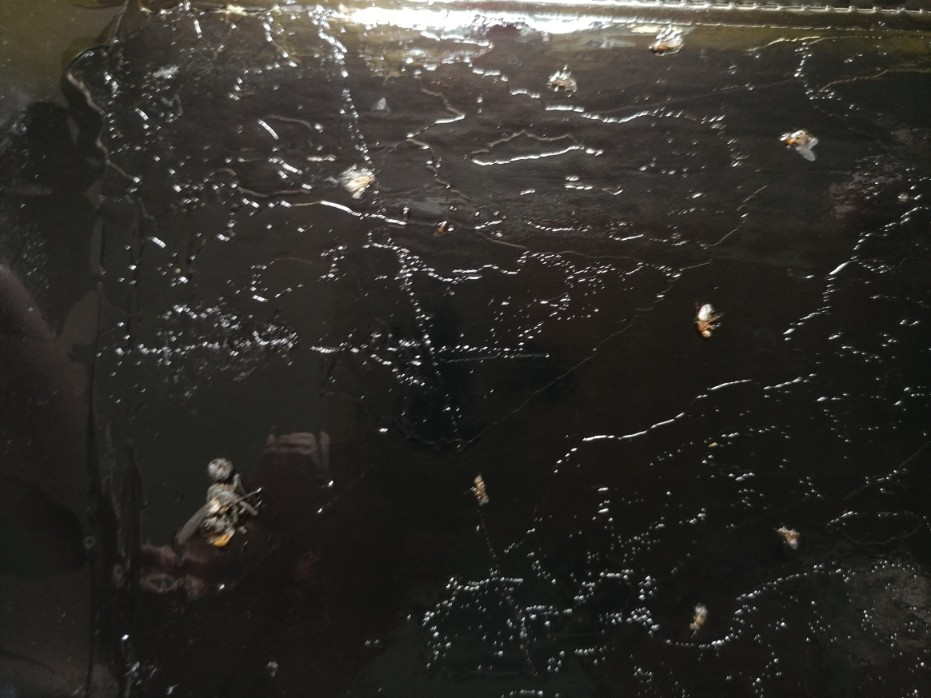fly: (178, 444, 266, 564)
